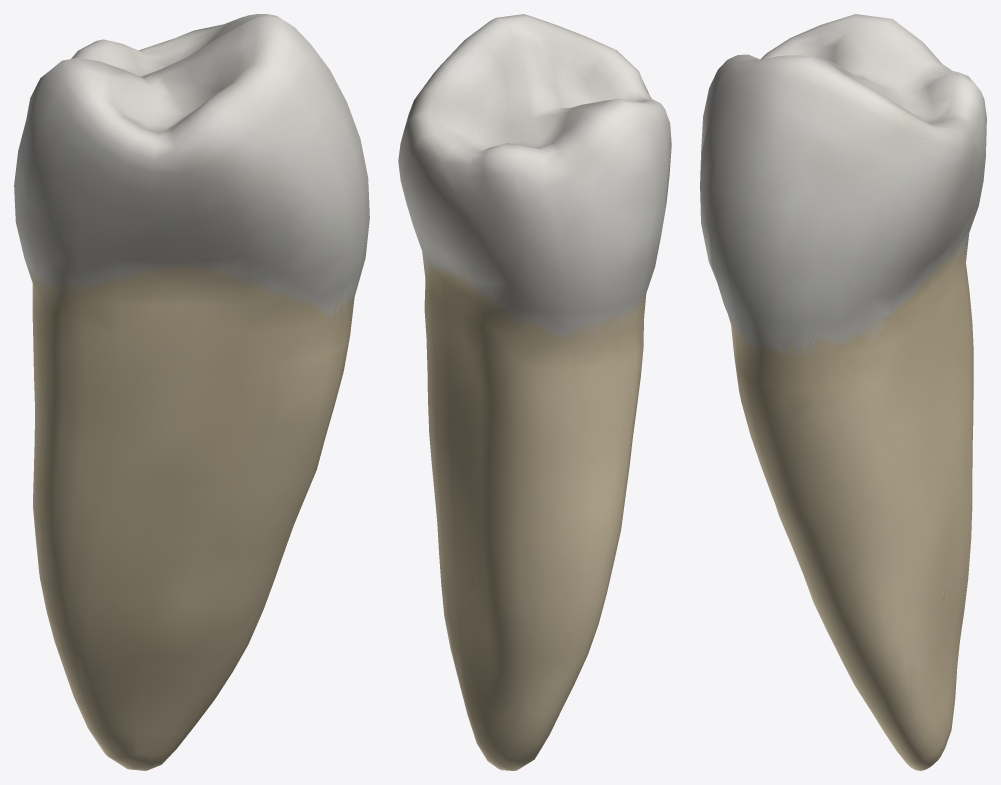
The model's file is tooth-35.glb.
3 renders of one model, left to right at view 1: azimuth 30°, elevation 25°; view 2: azimuth 150°, elevation 25°; view 3: azimuth 270°, elevation 25°, orthographic. The views are drawn at different scales.
Visible parts, largest first — view 1: LL5seam_3:ZBrushPolyMesh3D_Mandible_ll5_0; view 2: LL5seam_3:ZBrushPolyMesh3D_Mandible_ll5_0; view 3: LL5seam_3:ZBrushPolyMesh3D_Mandible_ll5_0.
Boxes of the visible parts, <box> form: LL5seam_3:ZBrushPolyMesh3D_Mandible_ll5_0: <box>14,14,369,770</box>; LL5seam_3:ZBrushPolyMesh3D_Mandible_ll5_0: <box>398,14,671,770</box>; LL5seam_3:ZBrushPolyMesh3D_Mandible_ll5_0: <box>700,14,986,770</box>.
Bounding box in the file's own units: 0.2859 × 0.7348 × 0.2584.
1 material, 1 textured.
